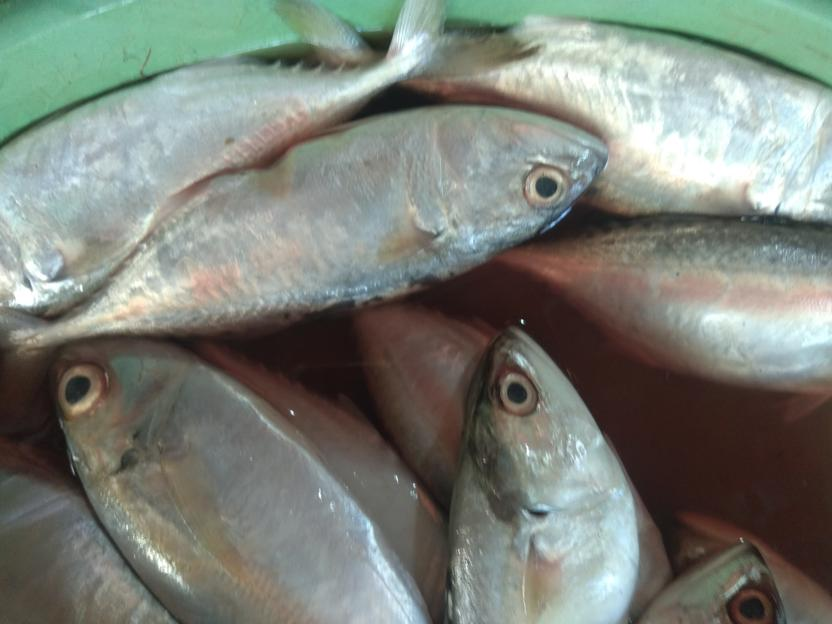Fish head: (461, 324, 621, 517), (410, 104, 610, 252), (51, 338, 194, 474), (641, 540, 789, 622)
Fish tail: (386, 1, 546, 80)
